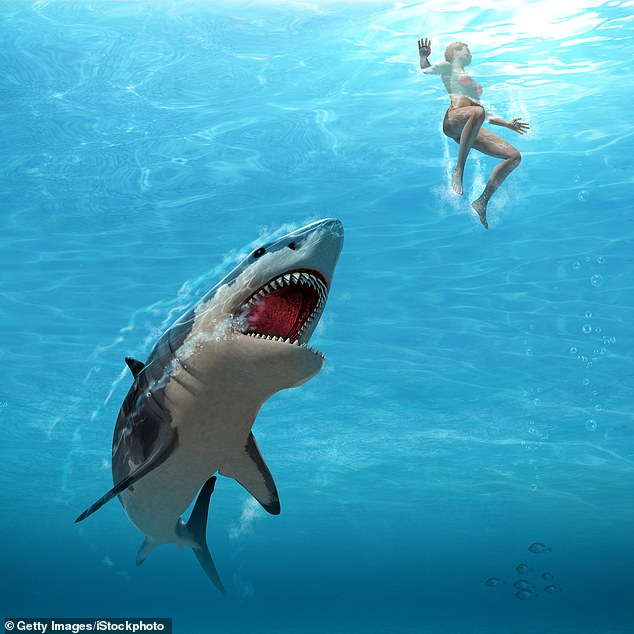shark: (63, 201, 366, 595)
